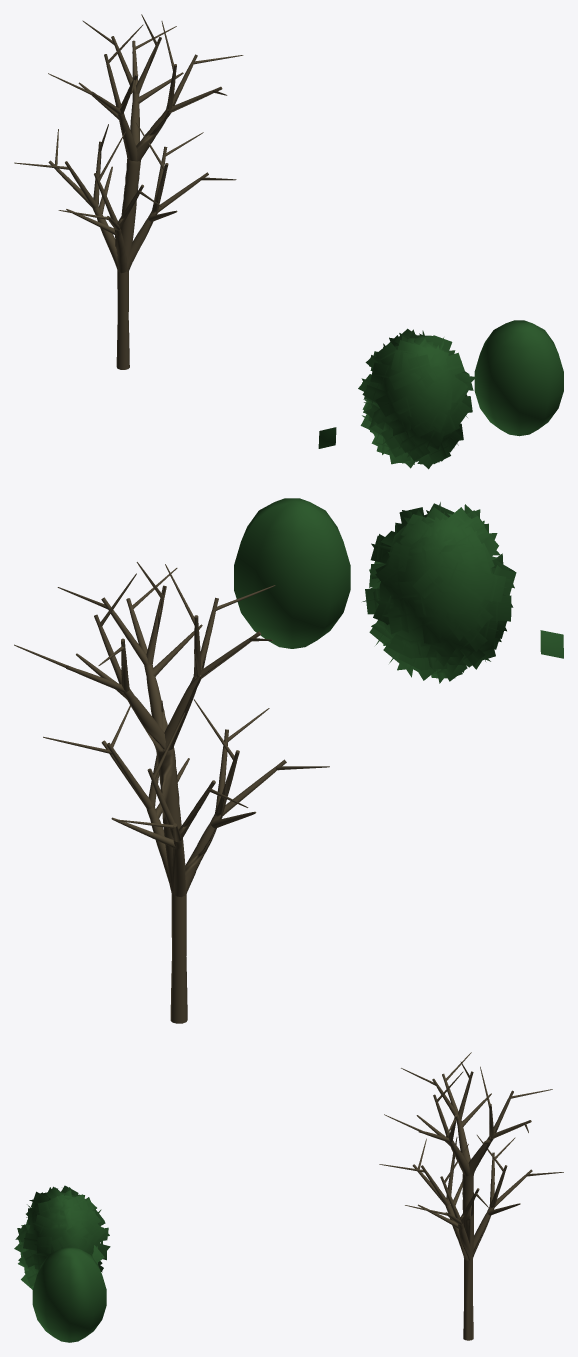
The model's file is GenTree_Texture.fbx.
The picture shows the model from 3 angles, top to bottom: view 1: azimuth 30°, elevation 25°; view 2: azimuth 150°, elevation 25°; view 3: azimuth 270°, elevation 25°; orthographic projection. The views are drawn at different scales.
Visible parts, largest first — view 1: GenericTree_Full1, Leaftex1, LeafCloud; view 2: GenericTree_Full1, Leaftex1, LeafCloud, LeafY49; view 3: GenericTree_Full1, Leaftex1, LeafCloud.
Part boxes in pixels (<box>): GenericTree_Full1: <box>14,14,243,369</box>; Leaftex1: <box>474,320,563,436</box>; LeafCloud: <box>373,348,457,452</box>; GenericTree_Full1: <box>14,562,329,1023</box>; Leaftex1: <box>234,498,350,648</box>; LeafCloud: <box>379,521,492,658</box>; LeafY49: <box>409,539,438,568</box>; GenericTree_Full1: <box>379,1052,563,1340</box>; Leaftex1: <box>32,1247,106,1342</box>; LeafCloud: <box>26,1199,99,1273</box>.
Size of the model in its own units: 2.8 by 3.23 by 5.69.
